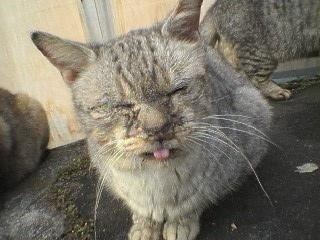cat: (32, 1, 274, 238), (195, 1, 320, 101)
